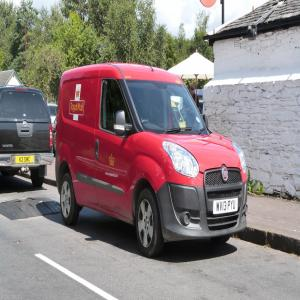Vehicle-registration-plate: (214, 197, 239, 218), (16, 156, 35, 167)
